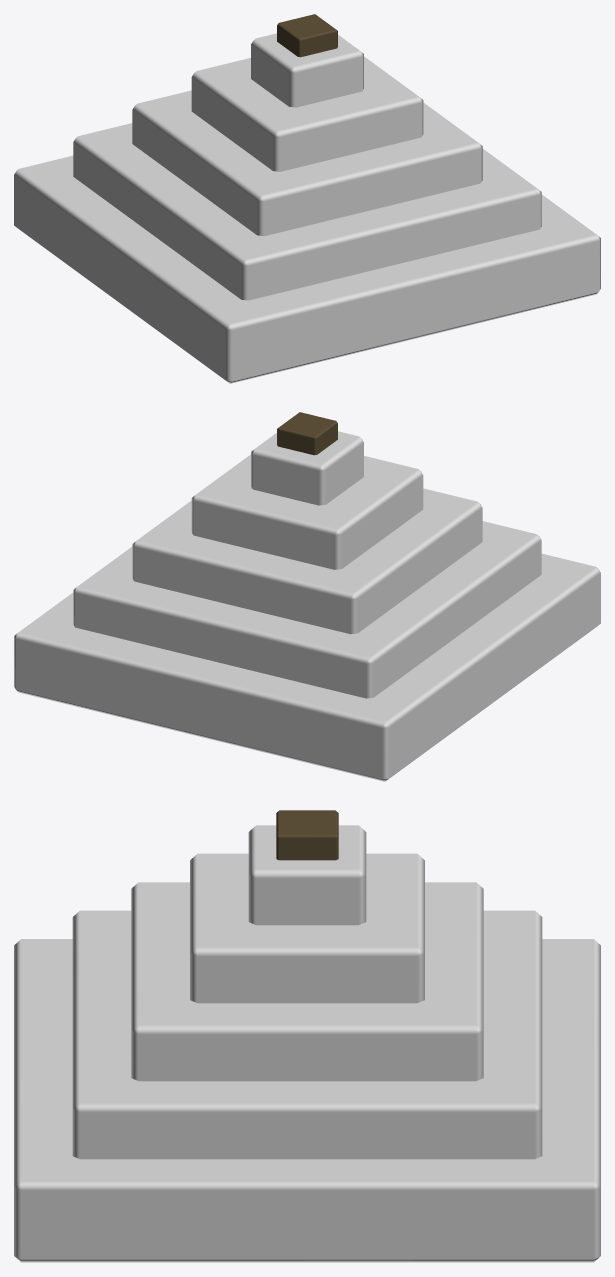
File: village-roof-hip.8bf3bd88.glb
3 renders of one model, top to bottom at view 1: azimuth 30°, elevation 25°; view 2: azimuth 150°, elevation 25°; view 3: azimuth 270°, elevation 25°, orthographic. The views are drawn at different scales.
Parts seen in each view (by area): view 1: body; view 2: body; view 3: body.
Part boxes in pixels (<box>): body: <box>14,14,600,383</box>; body: <box>14,412,600,781</box>; body: <box>14,810,600,1262</box>.
Bounding box in the file's own units: 1.5 × 0.9 × 1.5.
